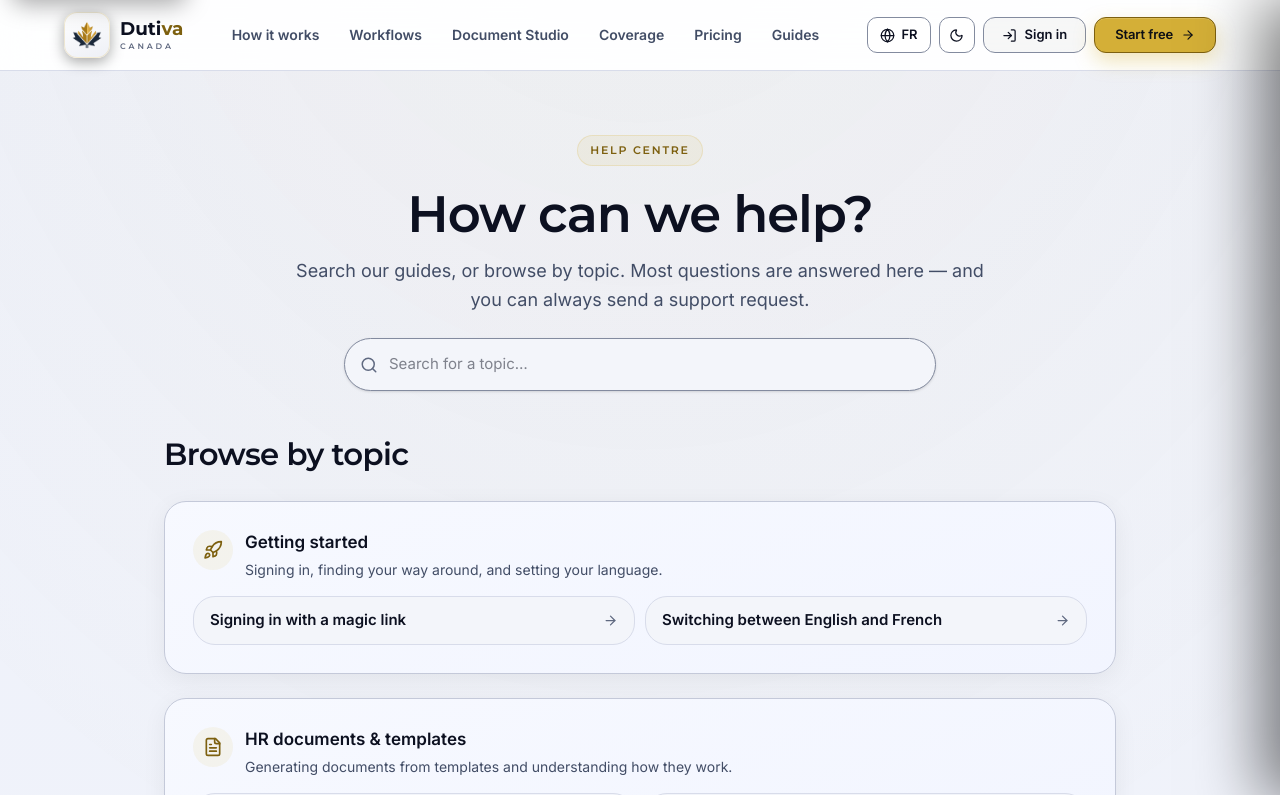
Test: HelpCenterPage › re-localizes to French via the header language toggle
Click the button with aria-label "Toggle language": (899, 35) [868,17,931,53]
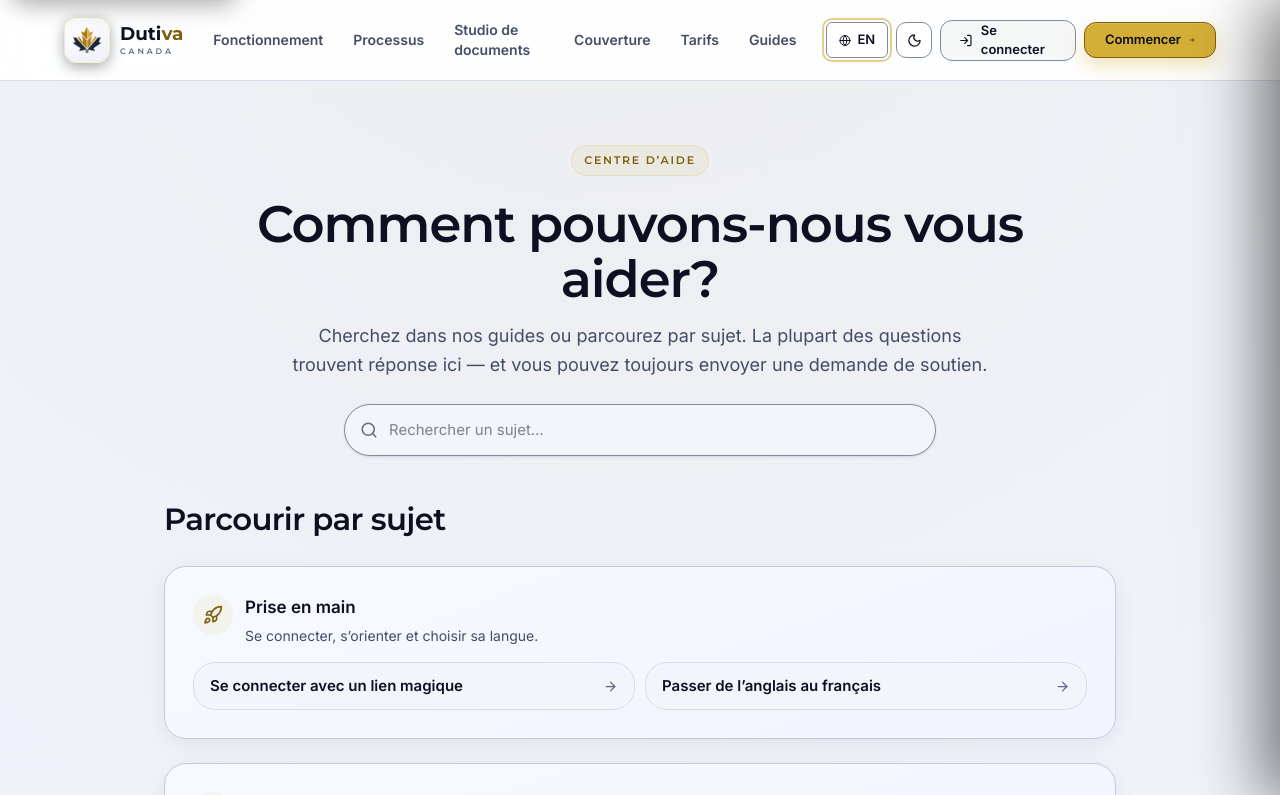
Expected: the heading "Comment pouvons-nous vous aider?" is shown, [244,196,1036,306]
